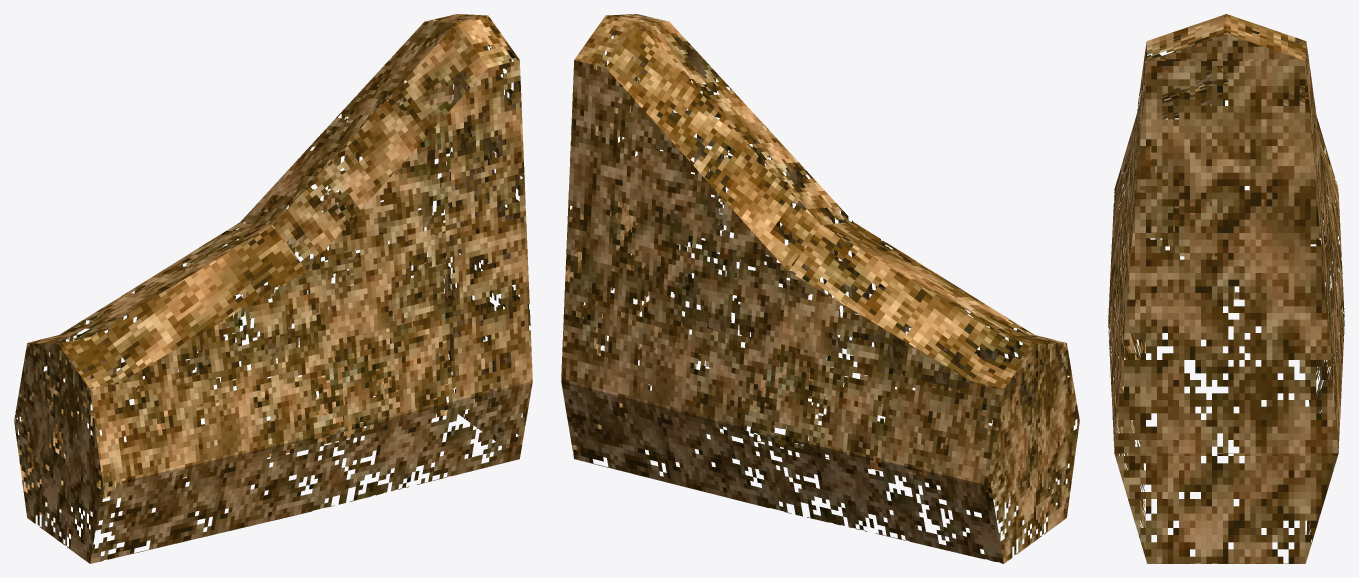
The model's file is bush_connector_ornamental_autumn.glb.
3 renders of one model, left to right at view 1: azimuth 30°, elevation 25°; view 2: azimuth 150°, elevation 25°; view 3: azimuth 270°, elevation 25°, orthographic. The views are drawn at different scales.
Visible parts, largest first — view 1: bush_connector_ornamental_autumn; view 2: bush_connector_ornamental_autumn; view 3: bush_connector_ornamental_autumn.
Part boxes in pixels (x1,y1,x2,y2): bush_connector_ornamental_autumn: (14, 14, 532, 563); bush_connector_ornamental_autumn: (561, 14, 1079, 563); bush_connector_ornamental_autumn: (1108, 14, 1344, 563).
Size of the model in its own units: 2.01 by 1.88 by 0.7592.
Materials: 1 (1 with a texture image).
